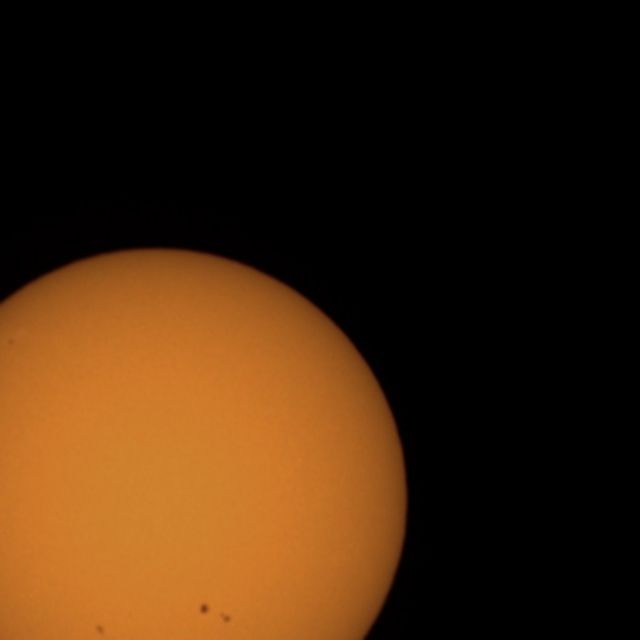sunspot: (198, 602, 234, 626), (218, 610, 234, 626), (198, 602, 211, 617), (93, 623, 106, 638), (6, 337, 16, 347)
